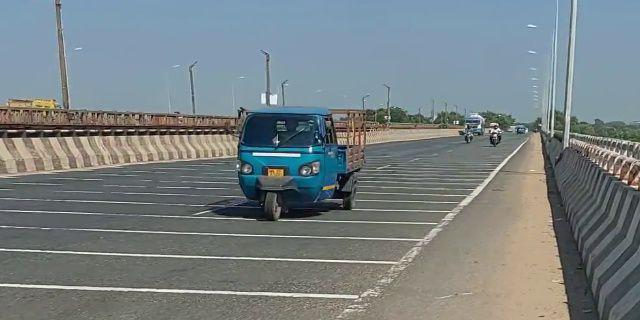Autorickshaw: (231, 100, 364, 222)
Motorbike: (486, 120, 504, 149)
